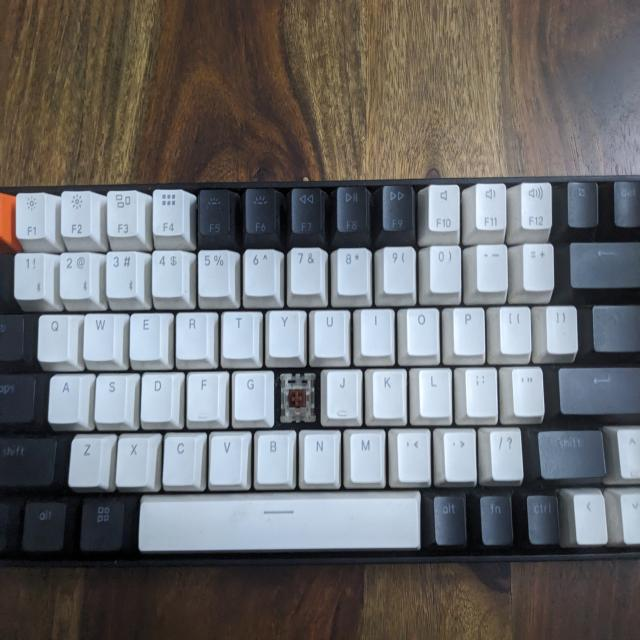C: (279, 368, 316, 424)
